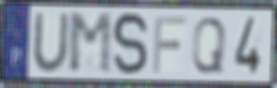4: (233, 15, 263, 78)
F: (151, 14, 188, 75)
M: (67, 11, 114, 76)
Q: (190, 16, 228, 76)
S: (111, 10, 150, 78)
U: (31, 11, 71, 74)
